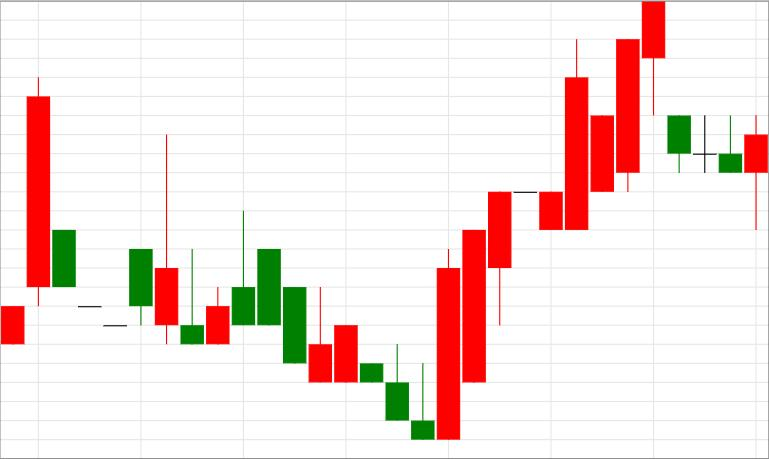bullish_engulfing_rise: (257, 248, 461, 439)
